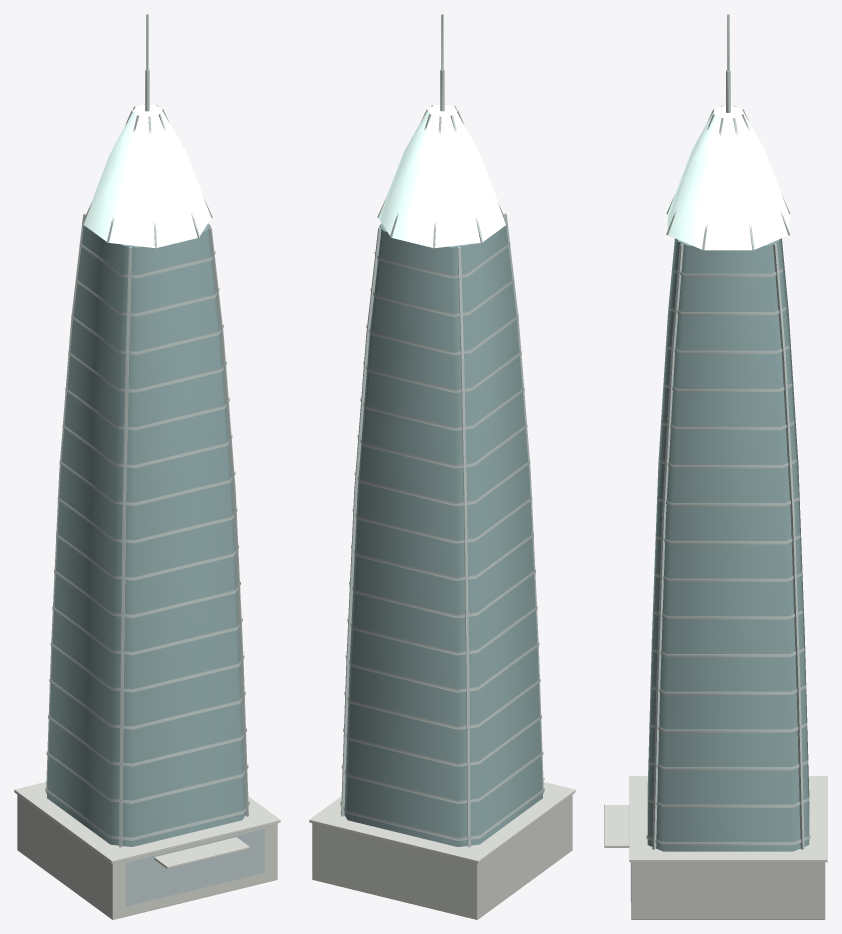
File: LM_ENV_TRX.glb
The picture shows the model from 3 angles, left to right: view 1: azimuth 30°, elevation 25°; view 2: azimuth 150°, elevation 25°; view 3: azimuth 270°, elevation 25°; orthographic projection.
Parts seen in each view (by area): view 1: TRX | TRX glass, TRX | TRX fin, TRX | Podium stone, TRX | TRX crown glass, TRX | Entrance canopy, TRX | Lobby glass; view 2: TRX | TRX glass, TRX | TRX fin, TRX | Podium stone, TRX | TRX crown glass, TRX | Entrance canopy; view 3: TRX | TRX glass, TRX | TRX fin, TRX | TRX crown glass, TRX | Podium stone, TRX | Entrance canopy.
Boxes of the visible parts, left/top/right/bottom form: TRX | TRX glass: left=47, top=216, right=245, bottom=846; TRX | TRX fin: left=45, top=14, right=249, bottom=847; TRX | Podium stone: left=17, top=795, right=277, bottom=919; TRX | TRX crown glass: left=84, top=104, right=211, bottom=247; TRX | Entrance canopy: left=14, top=782, right=280, bottom=868; TRX | Lobby glass: left=126, top=828, right=264, bottom=906; TRX | TRX glass: left=344, top=216, right=542, bottom=846; TRX | TRX fin: left=340, top=14, right=544, bottom=847; TRX | Podium stone: left=312, top=795, right=572, bottom=919; TRX | TRX crown glass: left=378, top=104, right=505, bottom=247; TRX | Entrance canopy: left=309, top=777, right=575, bottom=863; TRX | TRX glass: left=647, top=238, right=809, bottom=851; TRX | TRX fin: left=646, top=14, right=810, bottom=849; TRX | TRX crown glass: left=667, top=106, right=789, bottom=250; TRX | Podium stone: left=631, top=862, right=825, bottom=919; TRX | Entrance canopy: left=604, top=776, right=827, bottom=862.
Size of the model in its own units: 18.4 by 88.5 by 20.7.
